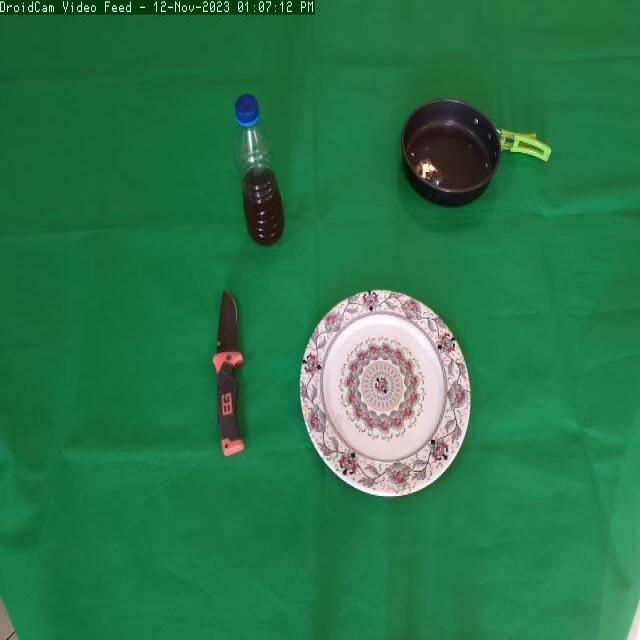fullbottle: (225, 82, 288, 256)
knife: (202, 284, 256, 462)
pan: (394, 95, 556, 219)
plate: (300, 288, 480, 510)
